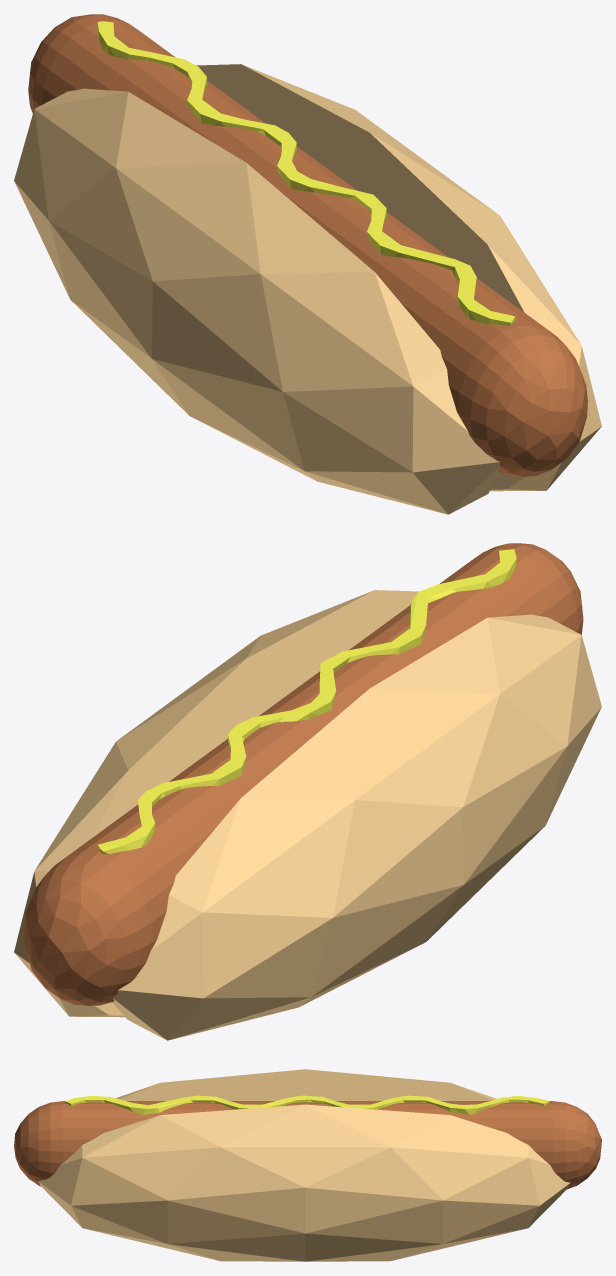
The model's file is Hot Dog 1.glb.
3 renders of one model, top to bottom at view 1: azimuth 30°, elevation 25°; view 2: azimuth 150°, elevation 25°; view 3: azimuth 270°, elevation 25°, orthographic. The views are drawn at different scales.
Visible parts, largest first — view 1: hotdog 4; view 2: hotdog 4; view 3: hotdog 4.
Part boxes in pixels (x1,y1,x2,y2): hotdog 4: (14,14,601,514); hotdog 4: (14,543,601,1040); hotdog 4: (14,1069,601,1261).
Size of the model in its own units: 0.4538 by 0.3689 by 1.26.
